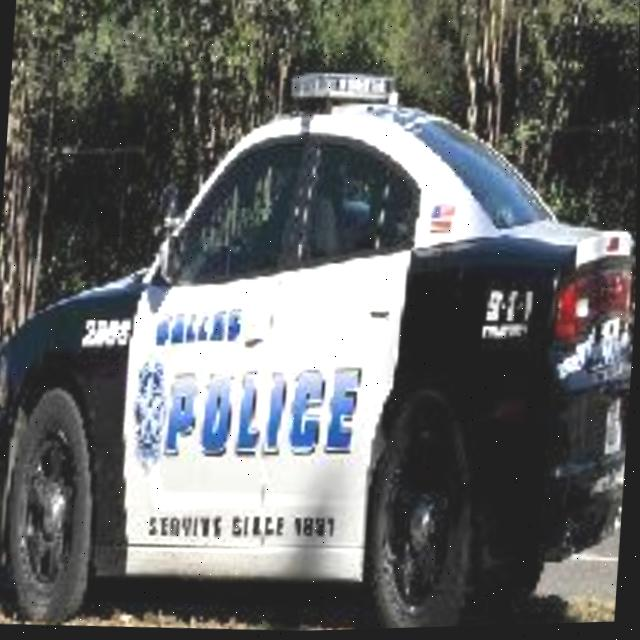emergency: (0, 75, 639, 640)
